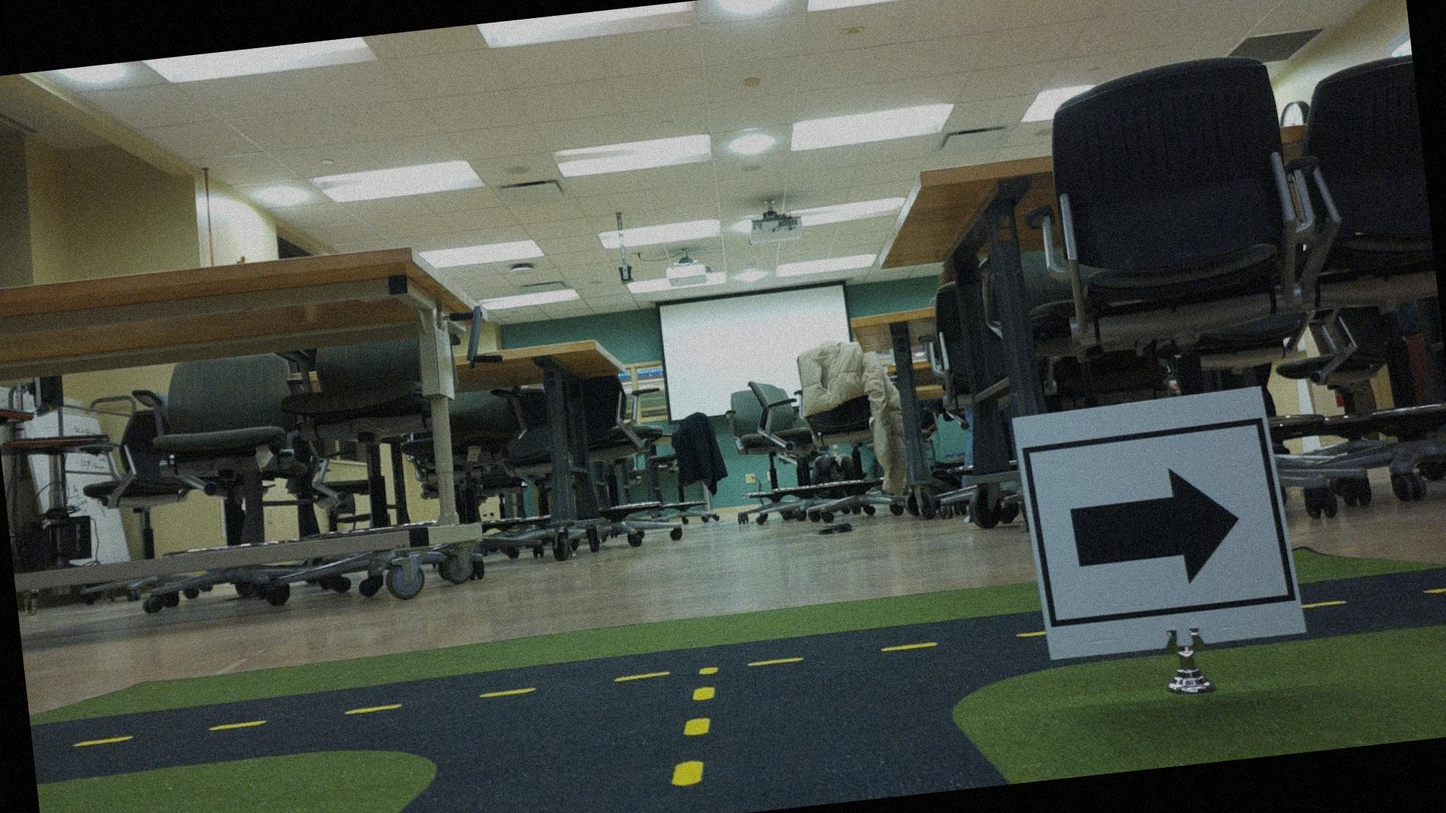turnleft: (1020, 391, 1292, 645)
yellowline: (72, 629, 1032, 747), (662, 682, 727, 790)
